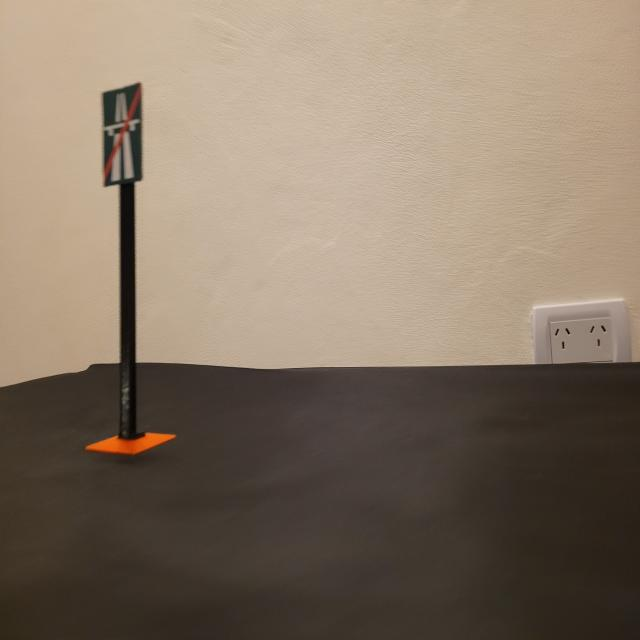highway_exit: (98, 81, 144, 190)
